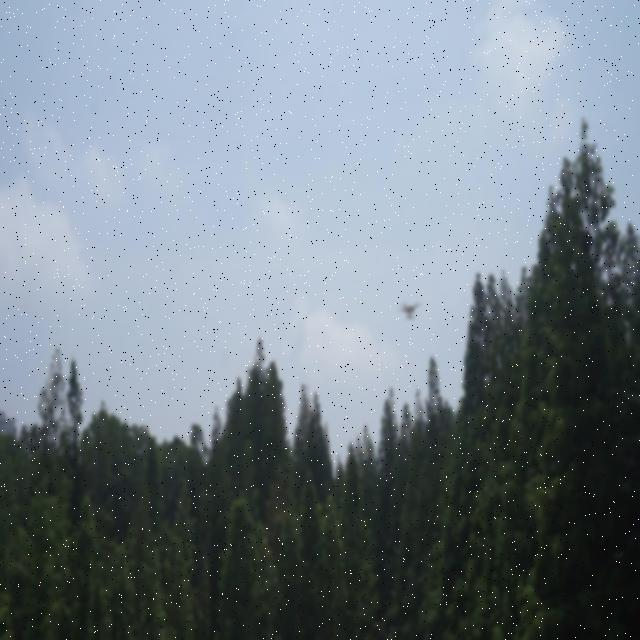UAV: (397, 302, 423, 321)
